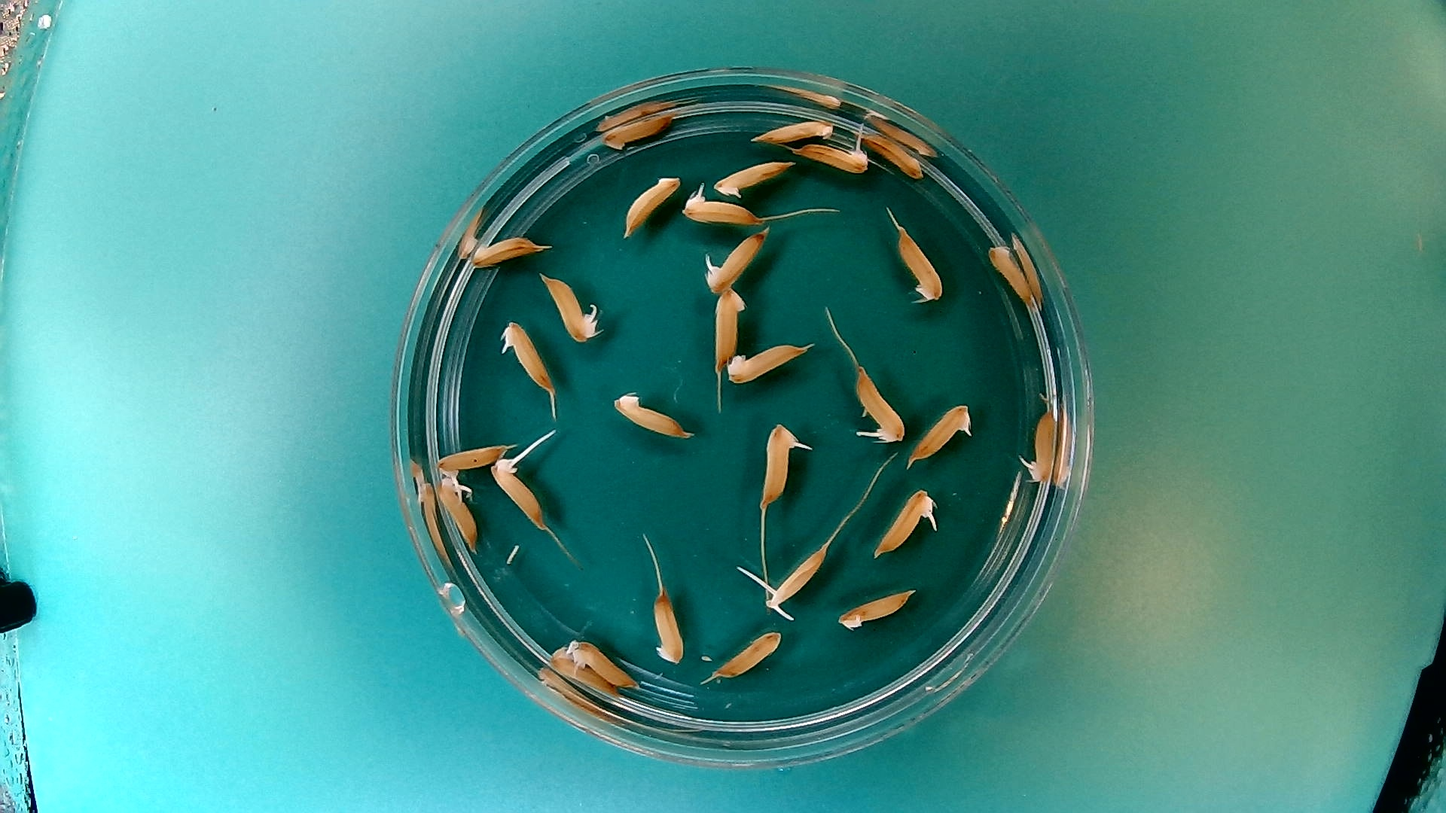no: (892, 221, 947, 308), (609, 386, 694, 441), (723, 337, 813, 385), (619, 171, 683, 235), (710, 630, 784, 685), (834, 585, 917, 632), (548, 644, 618, 697), (465, 227, 553, 268), (985, 239, 1037, 306), (709, 285, 747, 375), (597, 108, 678, 150), (862, 131, 926, 181), (651, 586, 685, 665), (747, 117, 838, 145)
yes: (871, 484, 941, 559), (489, 456, 550, 532), (701, 227, 771, 293), (497, 316, 554, 397), (540, 271, 602, 345), (909, 398, 978, 464), (765, 543, 830, 611), (755, 427, 807, 506), (856, 370, 909, 443), (567, 639, 640, 690), (436, 473, 482, 552), (1019, 400, 1060, 487), (428, 440, 511, 482), (712, 156, 793, 199), (679, 187, 761, 227), (796, 137, 871, 173)
